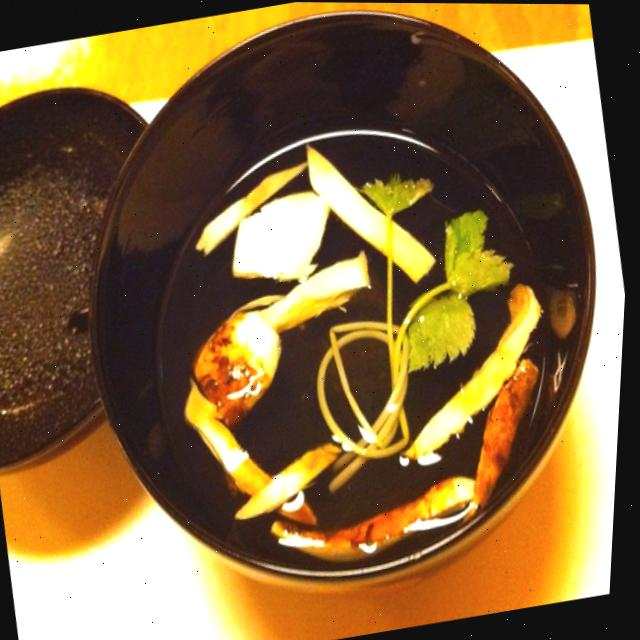汤锅炖物: (61, 1, 640, 625)
